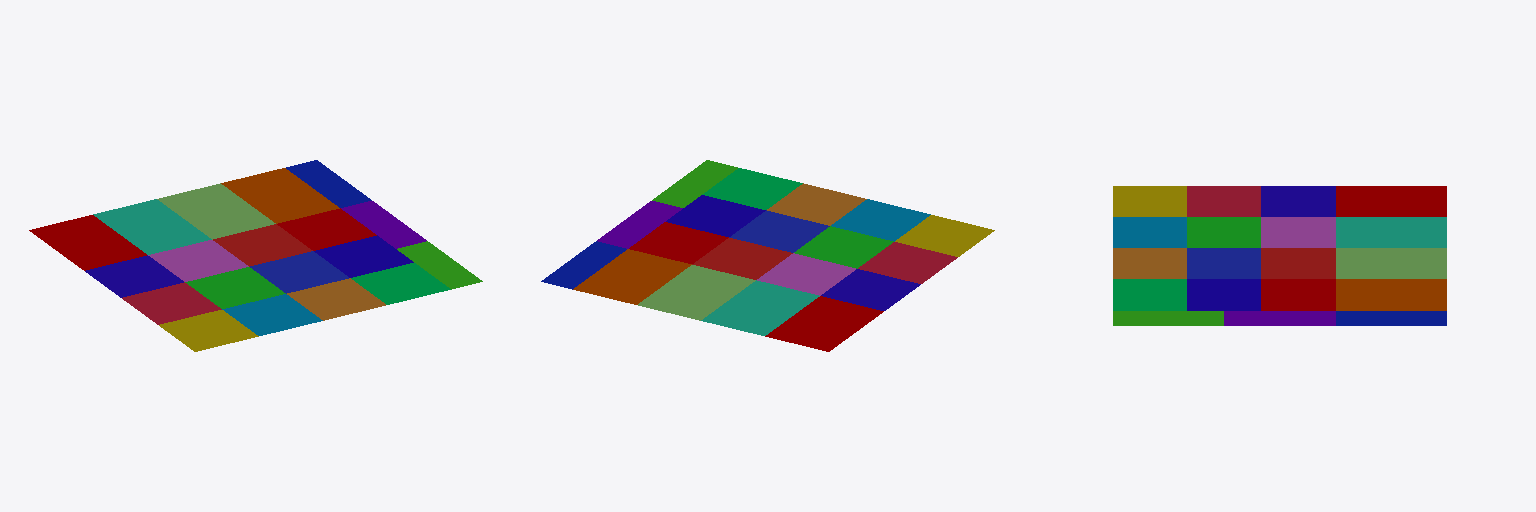
File: colorgrid2.obj
The picture shows the model from 3 angles: view 1: azimuth 30°, elevation 25°; view 2: azimuth 150°, elevation 25°; view 3: azimuth 270°, elevation 25°; orthographic projection.
Visible parts, largest first — view 1: Grid.013_Grid.015; view 2: Grid.013_Grid.015; view 3: Grid.013_Grid.015.
Boxes of the visible parts, x1=… form: Grid.013_Grid.015: x1=29, y1=160, x2=482, y2=351; Grid.013_Grid.015: x1=541, y1=160, x2=994, y2=351; Grid.013_Grid.015: x1=1113, y1=186, x2=1446, y2=325.
Size of the model in its own units: 2 by 0 by 2.